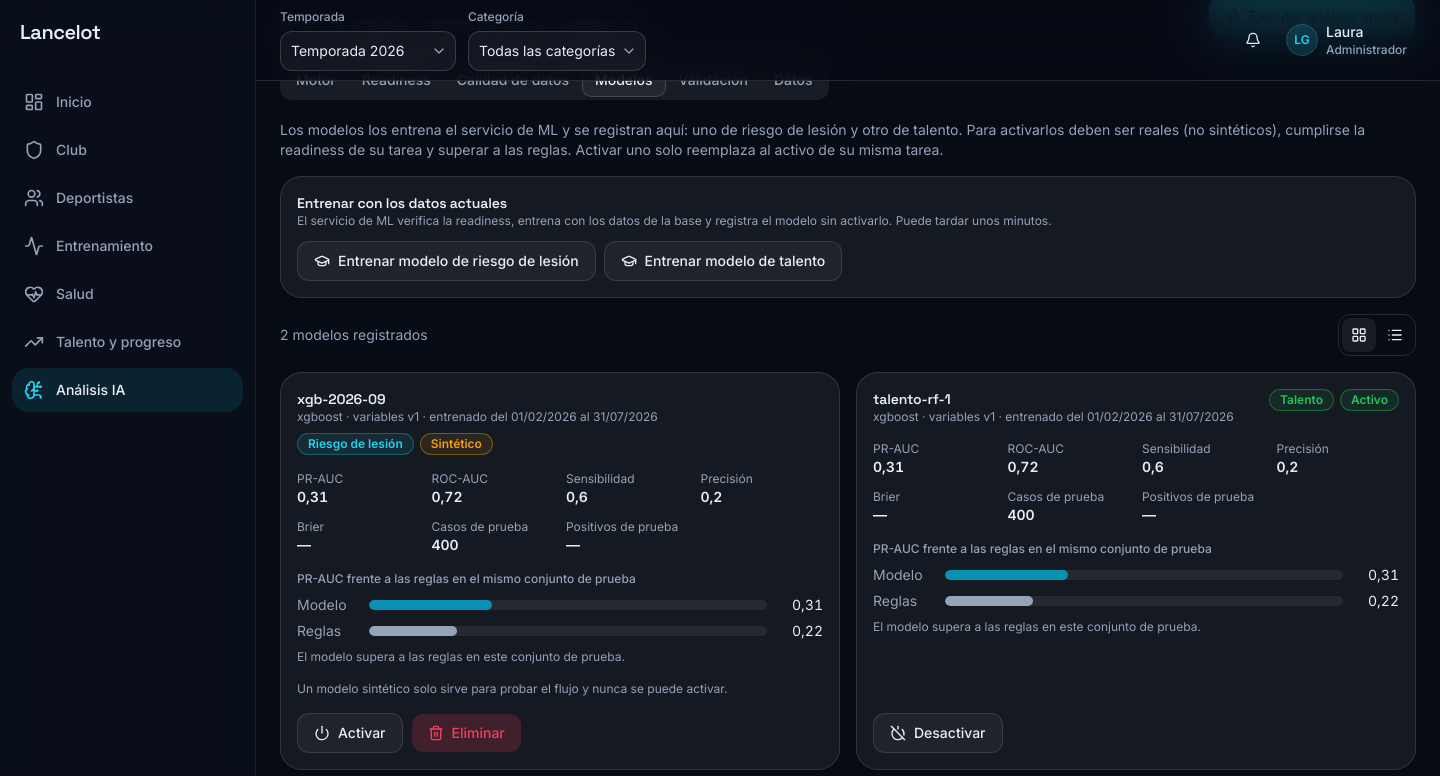
Test: análisis IA › muestra el motivo cuando el backend rechaza activar un modelo
(page scrolled)
Click the button "Activar": [350, 733] box [297, 713, 402, 753]
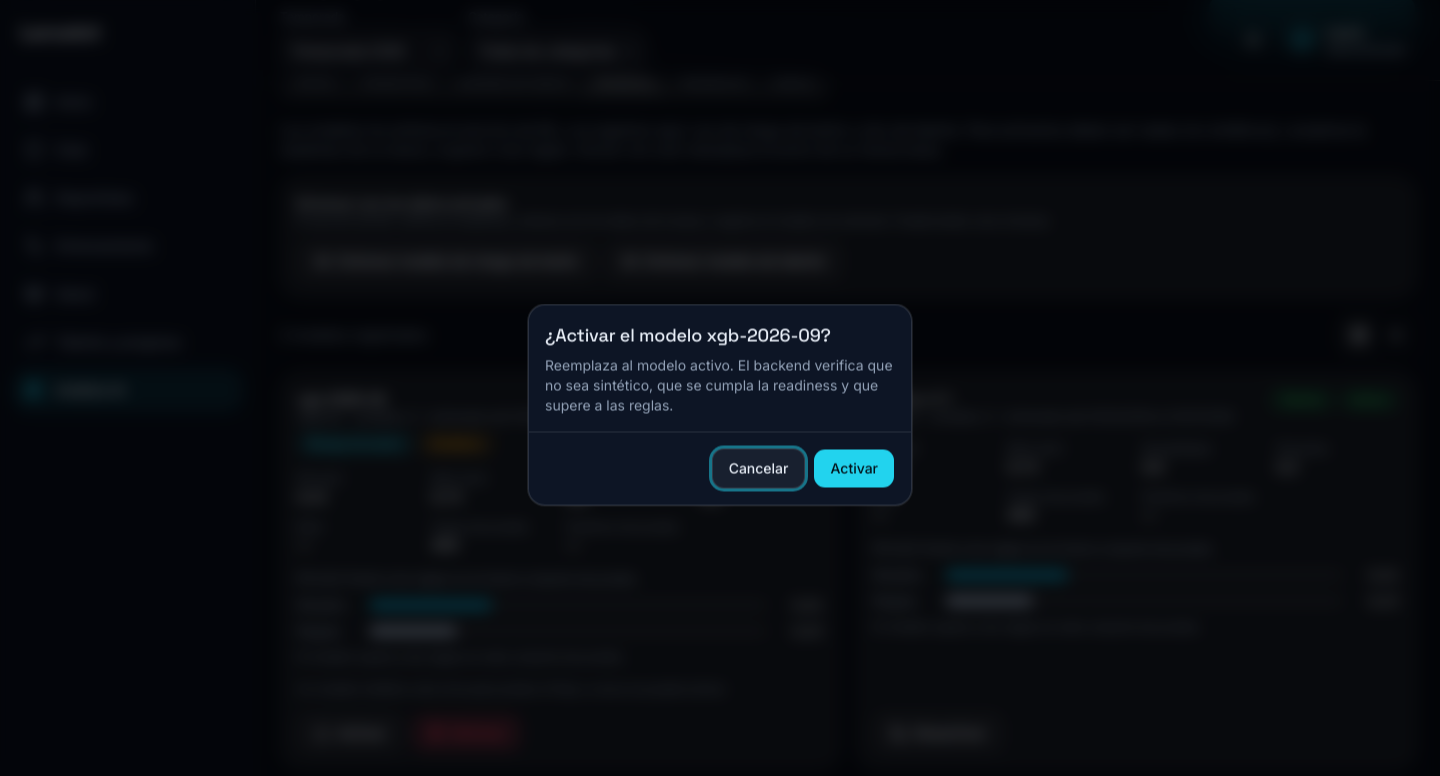
Click the button "Activar": [854, 468] box [814, 448, 895, 488]
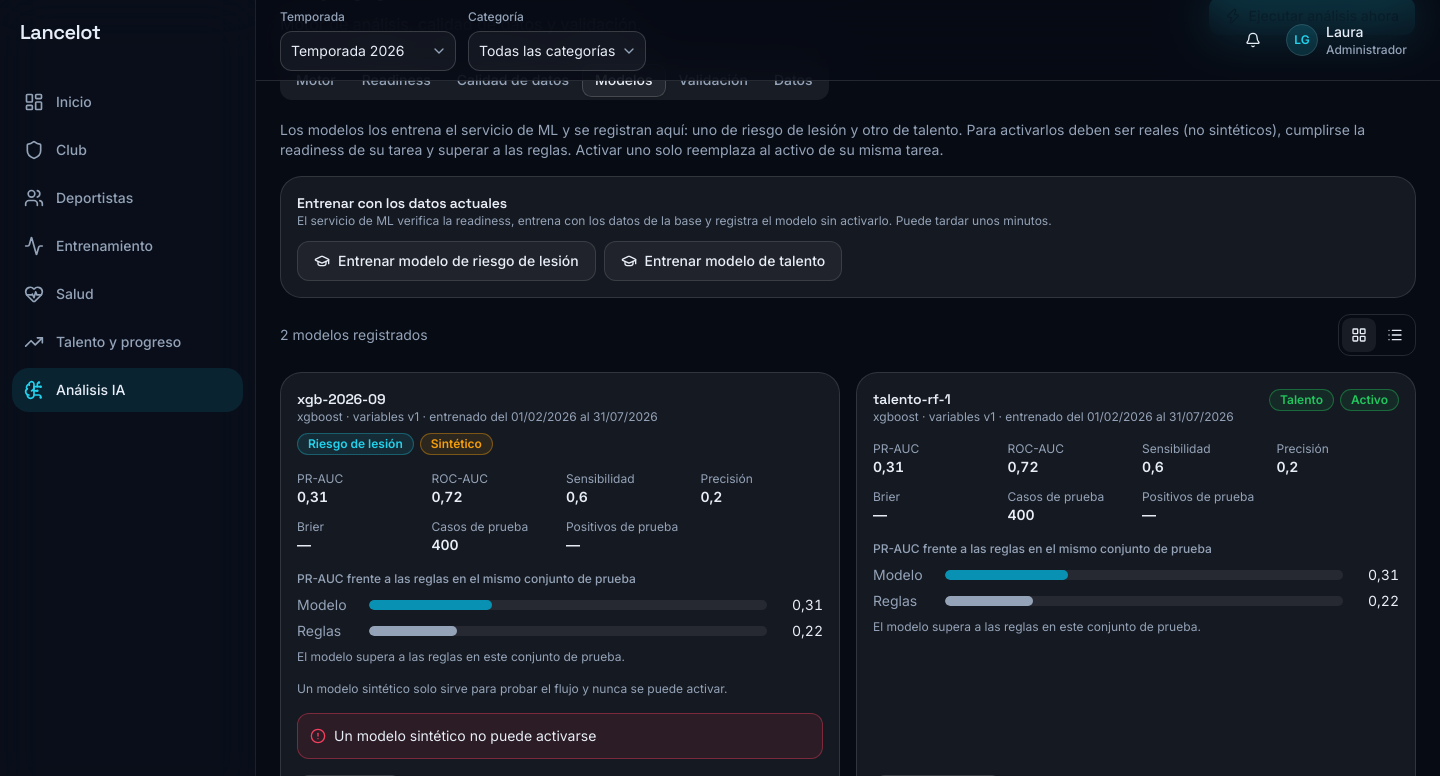
Result: the message reads "Un modelo sintético no puede activarse" at [334, 727, 596, 744]
